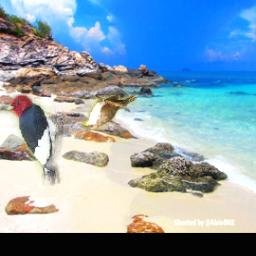Cuckoo: (81, 95, 136, 130)
Woodpecker: (1, 95, 66, 187)
